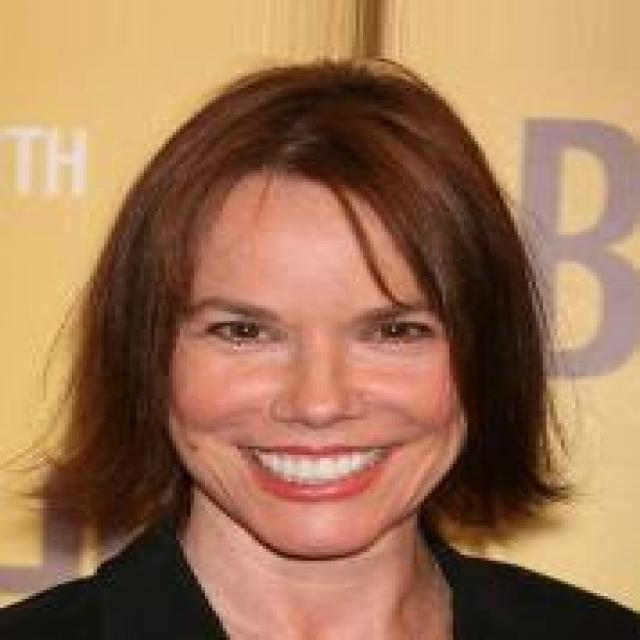nomask: (129, 91, 536, 561)
